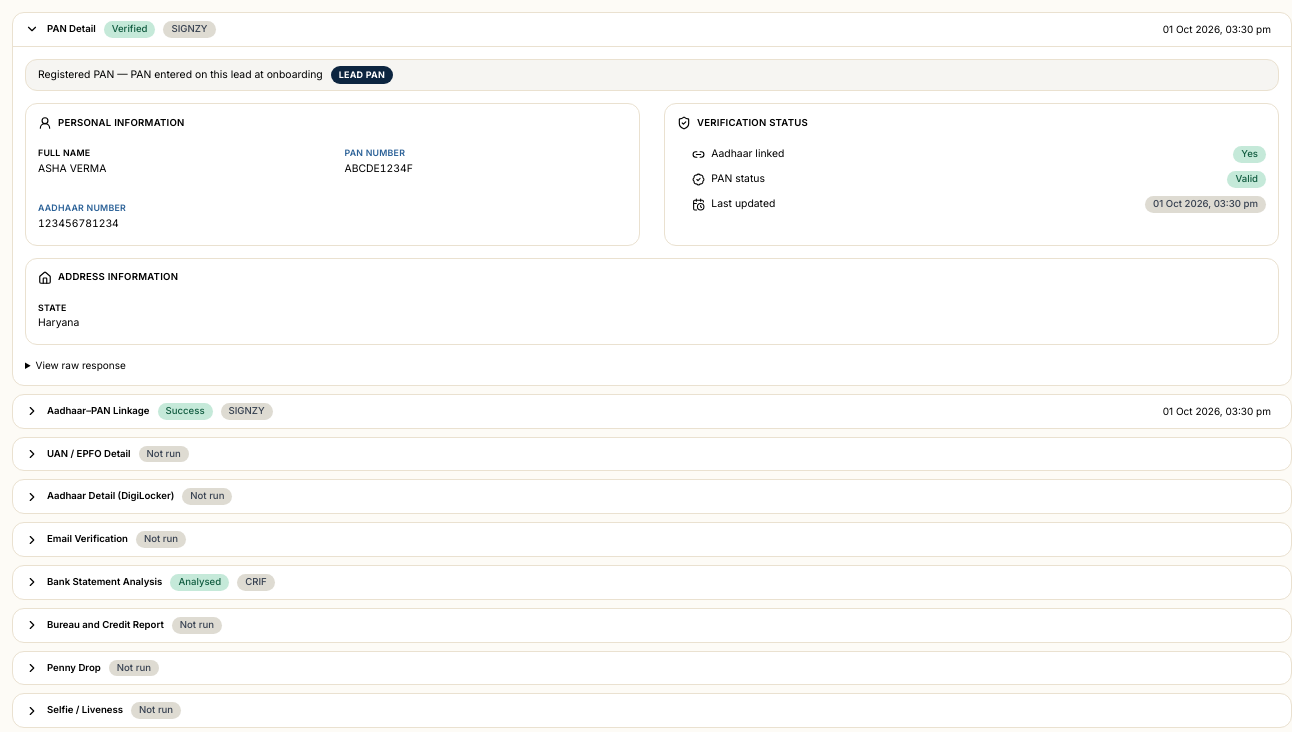
Third-party tab › derives the Aadhaar–PAN linkage step from the PAN response: both numbers, linked, success
Expected: the text "Personal Information" is shown, top-left (58, 117), bottom-right (185, 130)
What coordinates should you click on to do the following:
click the text "Aadhaar–PAN Linkage"
I would click on:
 (98, 411)
Its box is top-left (47, 405), bottom-right (150, 418).
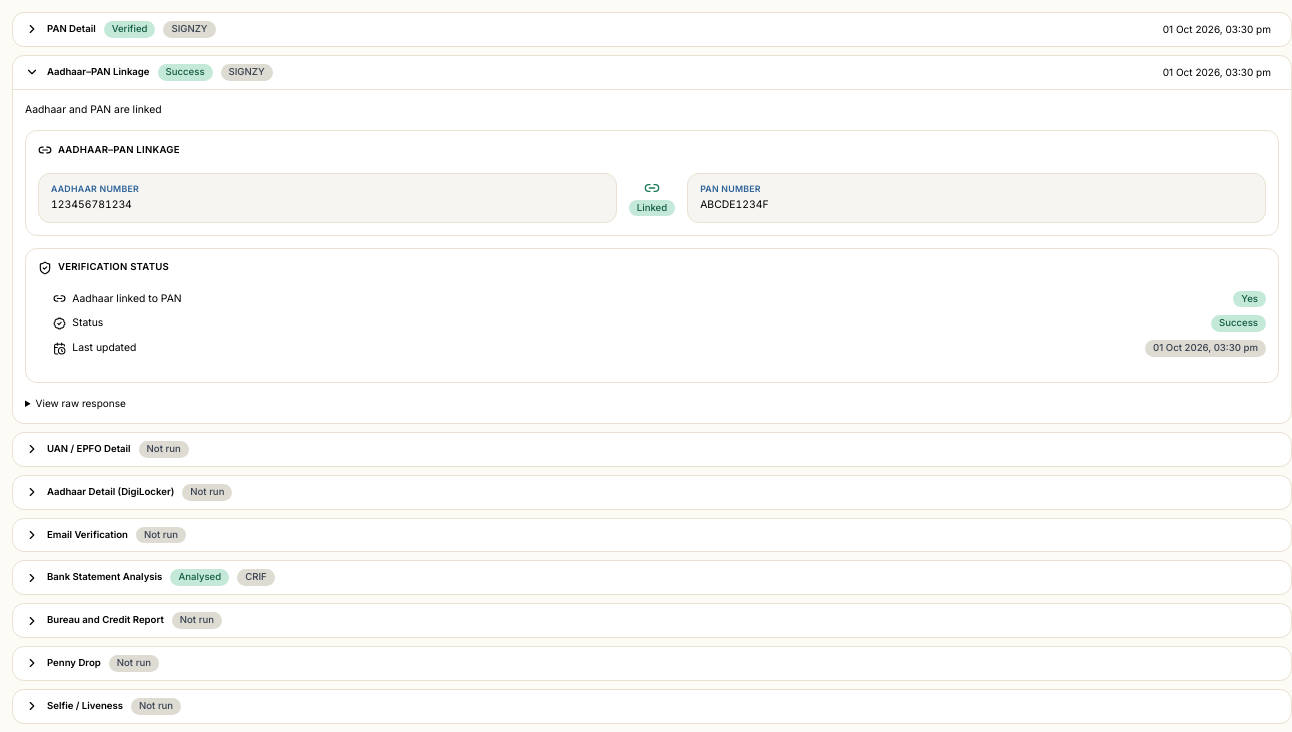
Expected: the text "123456781234" is shown, top-left (51, 198), bottom-right (132, 211)
Result: the text "Linked" is shown at top-left (629, 200), bottom-right (675, 216)
